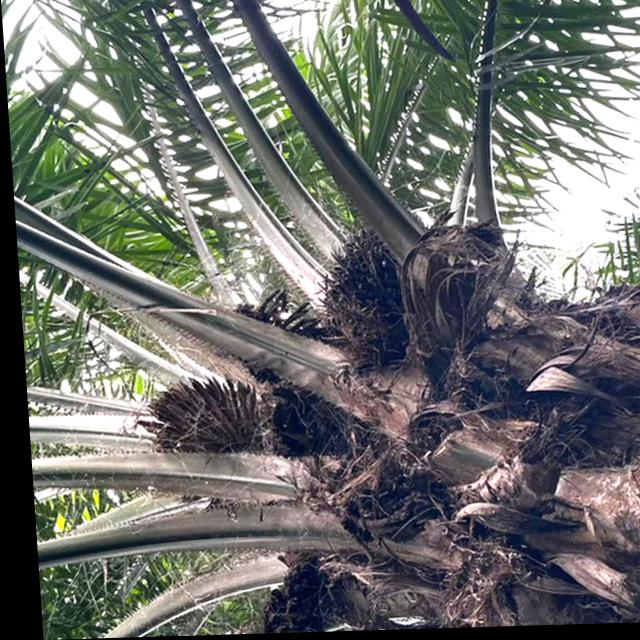almost: (311, 222, 412, 363)
